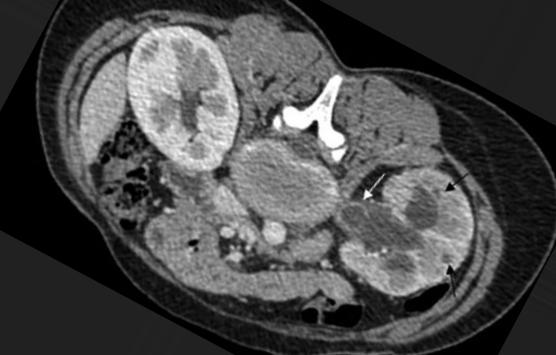anomaly: (335, 203, 373, 231)
